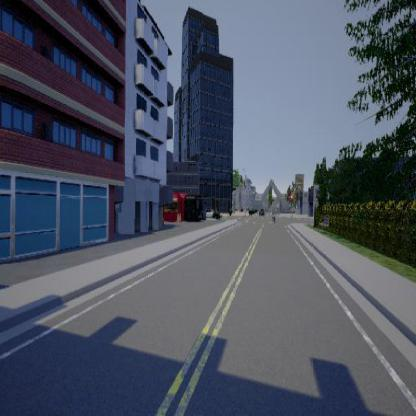bike: (270, 206, 277, 226)
traffic_light_red: (290, 192, 292, 204)
